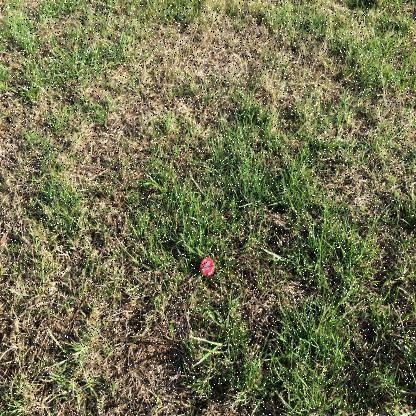metal: (200, 257, 214, 277)
